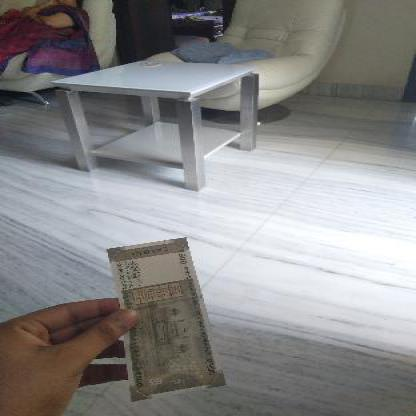New500Back: (106, 244, 226, 394)
